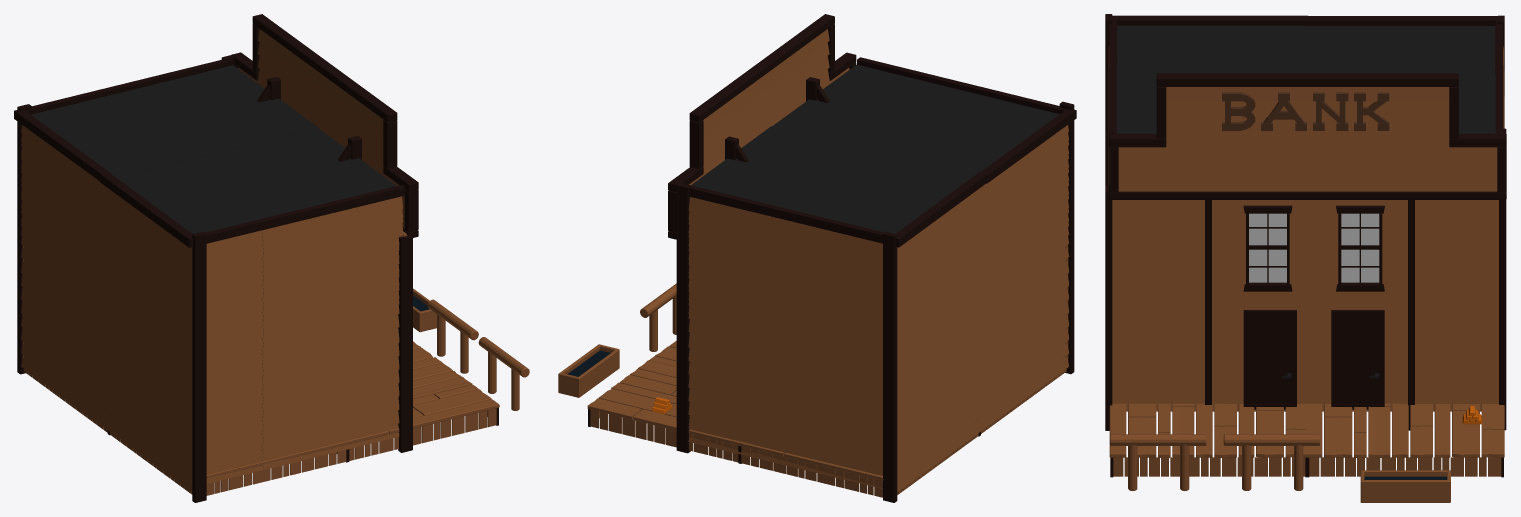
The model's file is bank.obj.
The picture shows the model from 3 angles, left to right: view 1: azimuth 30°, elevation 25°; view 2: azimuth 150°, elevation 25°; view 3: azimuth 270°, elevation 25°; orthographic projection. The views are drawn at different scales.
Parts seen in each view (by area): view 1: Foundation_E.041; view 2: Foundation_E.041; view 3: Foundation_E.041.
Boxes of the visible parts, box(x1,y1,x2,y2) form: Foundation_E.041: box(14, 14, 529, 502); Foundation_E.041: box(558, 14, 1076, 502); Foundation_E.041: box(1105, 14, 1506, 502).
Size of the model in its own units: 7.79 by 6.53 by 6.66.
